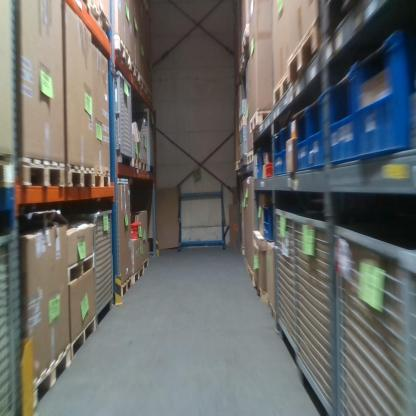pallet: (31, 341, 70, 392), (287, 31, 322, 86), (70, 314, 96, 364), (18, 161, 65, 188), (68, 251, 95, 286), (274, 66, 291, 108), (114, 33, 131, 74), (66, 167, 92, 192), (250, 111, 273, 132), (120, 270, 134, 301), (92, 169, 111, 191), (131, 62, 141, 86), (133, 262, 143, 286), (246, 145, 255, 166), (242, 31, 251, 51), (140, 75, 148, 95), (130, 159, 141, 172), (144, 256, 149, 271)
small_load_carrier: (352, 26, 413, 166), (329, 58, 360, 168), (308, 92, 329, 171), (293, 107, 311, 174), (282, 119, 296, 175), (262, 203, 277, 244), (273, 128, 284, 176), (256, 146, 265, 178)
stillage: (333, 216, 416, 416), (291, 213, 342, 415), (67, 202, 117, 329), (275, 203, 299, 364), (0, 230, 19, 415), (113, 69, 135, 169), (132, 100, 157, 173)
